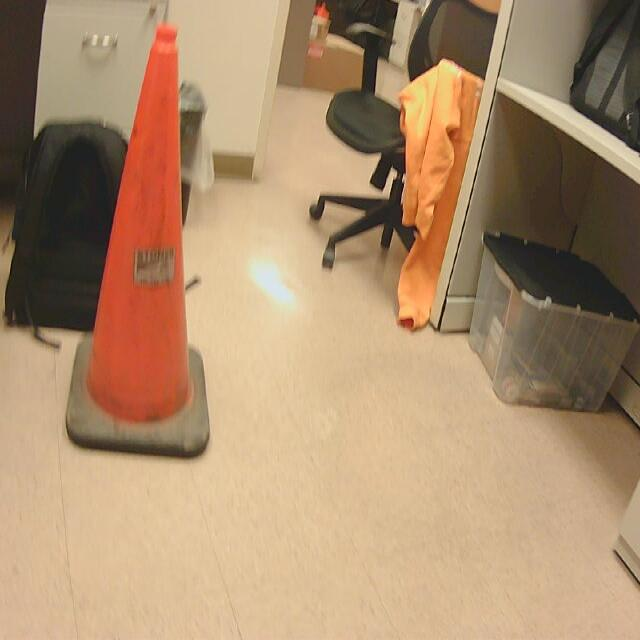traffic cone: (65, 24, 212, 464)
